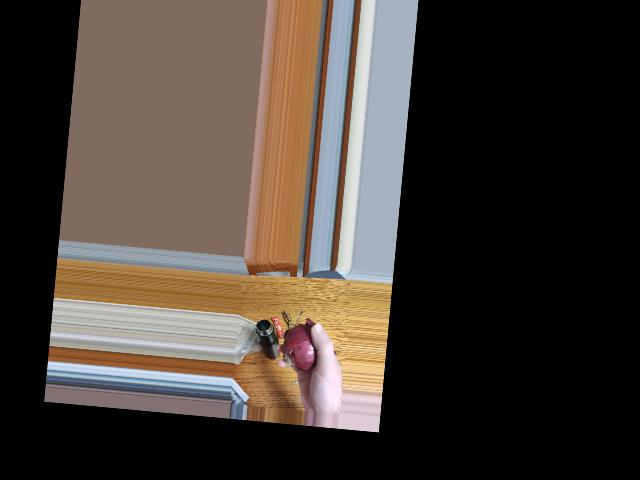onion: (282, 327, 325, 372)
